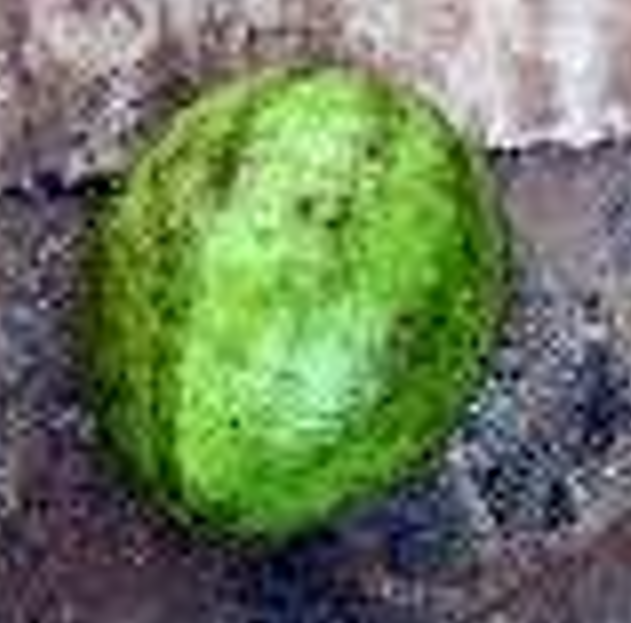guava_B: (86, 60, 513, 550)
